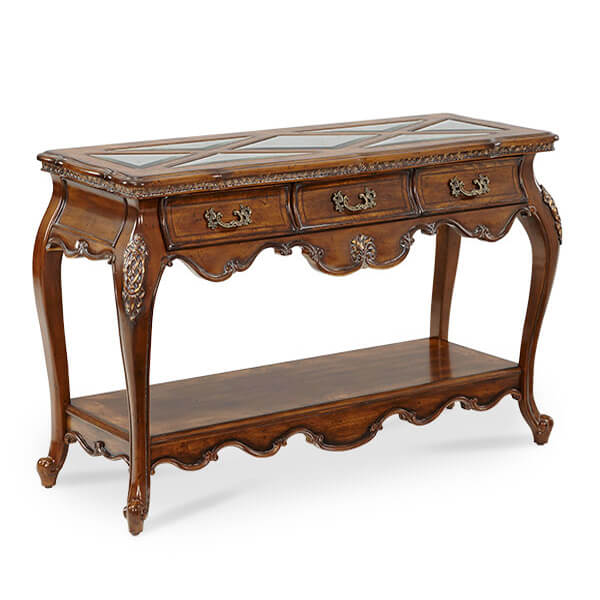Carving Table: (35, 124, 567, 511)
